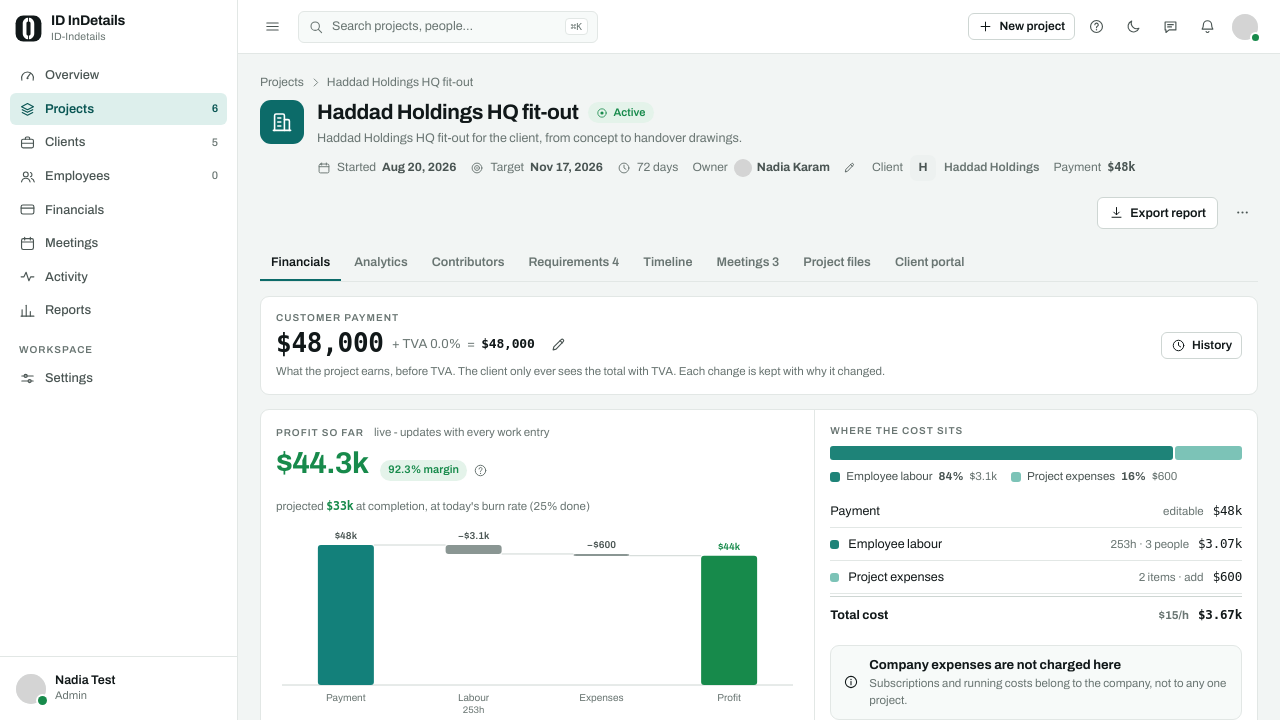
Test: a project › only shows the status to everyone else
Expected: the heading "Haddad Holdings HQ fit-out" is shown, [317,100,578,126]
# the menu keeps the money actions they may still take, without the status ones
Click the button named "More actions" at [1242, 213], box [1226,197,1258,229]
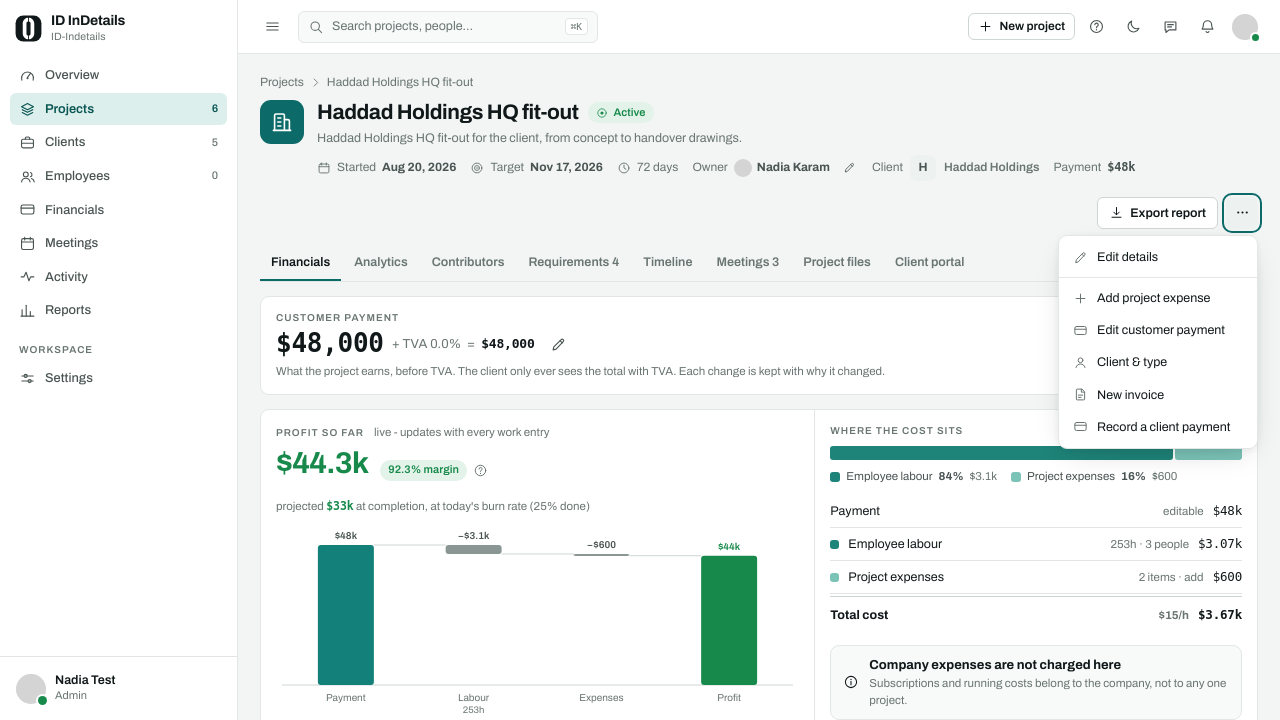
Now the button "Add project expense" is shown, box [1064,282,1252,314]
